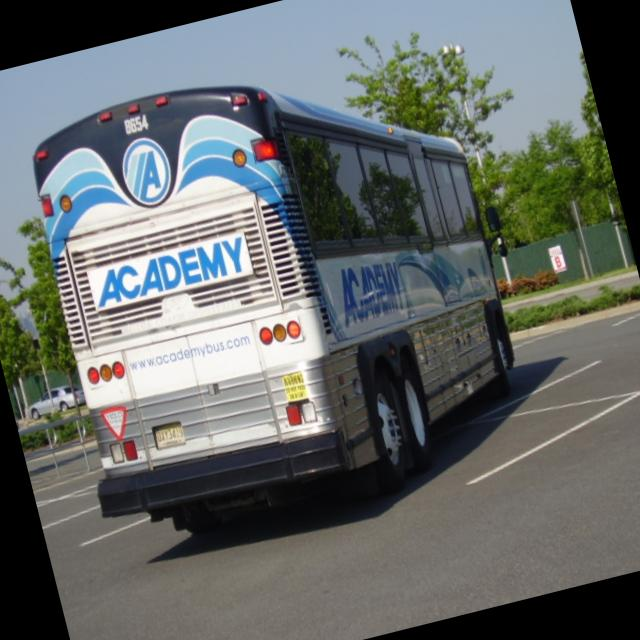bus: (6, 20, 559, 557)
